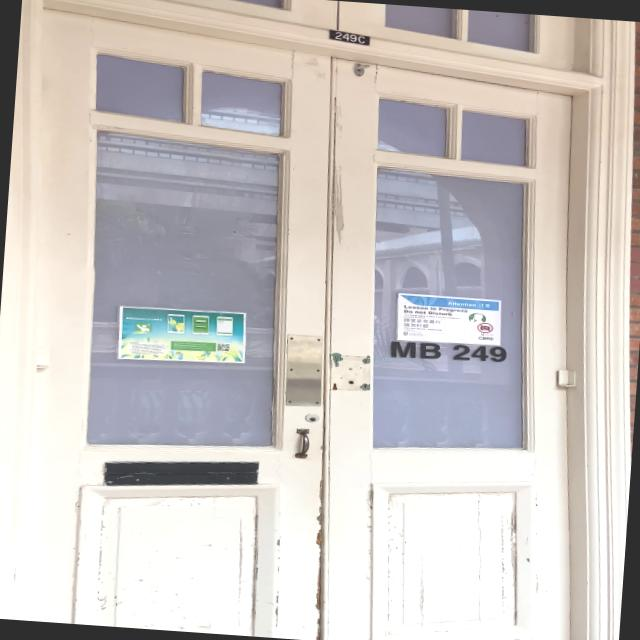room249c: (324, 26, 374, 46)
room249cWindow: (390, 335, 508, 367)
